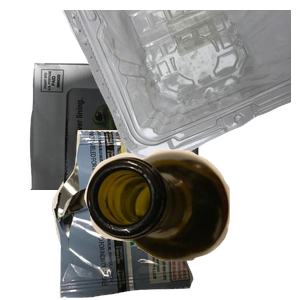glass: (82, 147, 300, 300)
paper: (27, 60, 223, 240)
plastic: (60, 10, 300, 162)
trash: (49, 130, 235, 300)
